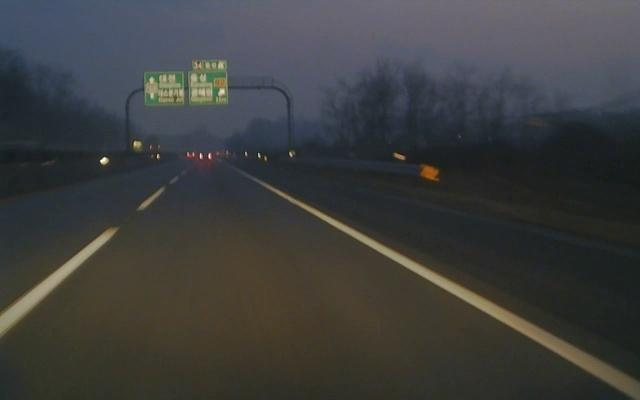lane: (235, 168, 640, 400), (0, 175, 181, 339)
